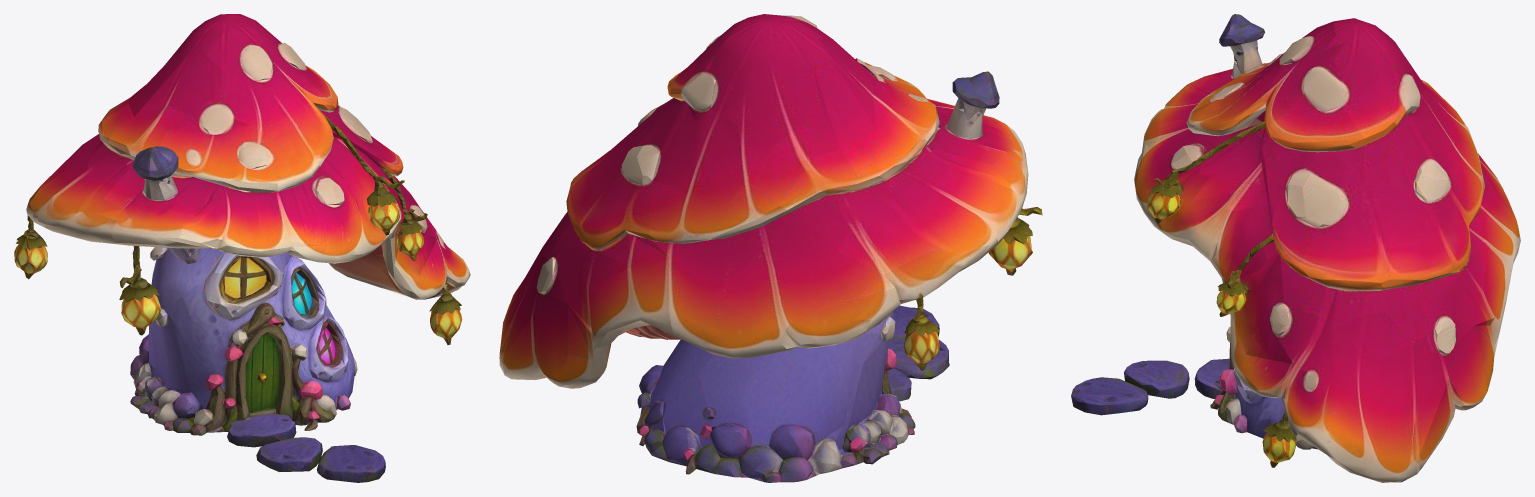
File: mushroom-lantern.glb
3 renders of one model, left to right at view 1: azimuth 30°, elevation 25°; view 2: azimuth 150°, elevation 25°; view 3: azimuth 270°, elevation 25°, orthographic. The views are drawn at different scales.
Visible parts, largest first — view 1: output_unwrapped; view 2: output_unwrapped; view 3: output_unwrapped.
Part boxes in pixels (x1,y1,x2,y2): output_unwrapped: [14, 14, 470, 482]; output_unwrapped: [499, 14, 1042, 482]; output_unwrapped: [1071, 14, 1520, 482].
Bounding box in the file's own units: 1.9 × 1.56 × 1.69.
1 material, 1 textured.
